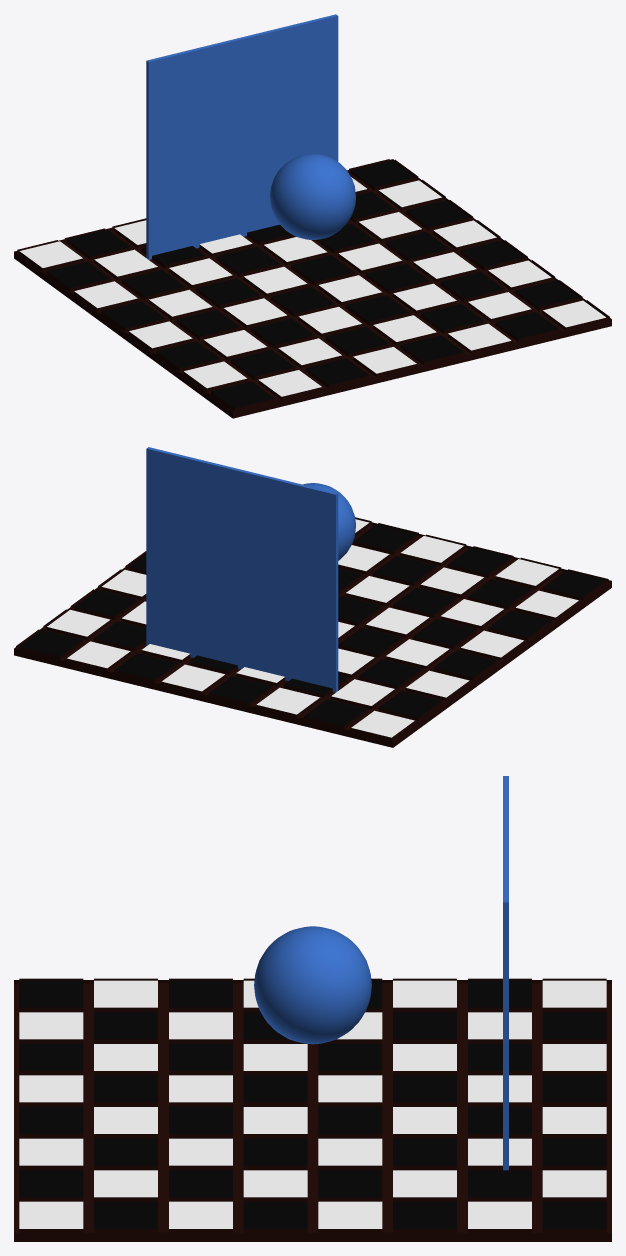
File: chess.obj
3 views of the same model, one above another, from view 1: azimuth 30°, elevation 25°; view 2: azimuth 150°, elevation 25°; view 3: azimuth 270°, elevation 25° (orthographic). The views are drawn at different scales.
Parts seen in each view (by area): view 1: Cube, Cube.001, Sphere; view 2: Cube, Cube.001, Sphere; view 3: Cube, Sphere, Cube.001.
Part boxes in pixels (x1,y1,x2,y2): Cube: (14, 159, 611, 418); Cube.001: (146, 14, 338, 259); Sphere: (270, 153, 355, 239); Cube: (14, 517, 611, 747); Cube.001: (146, 447, 338, 692); Sphere: (303, 483, 355, 560); Cube: (14, 978, 611, 1241); Sphere: (254, 926, 371, 1044); Cube.001: (503, 776, 508, 1170).
Bounding box in the file's own units: 20 × 10.2 × 20.
